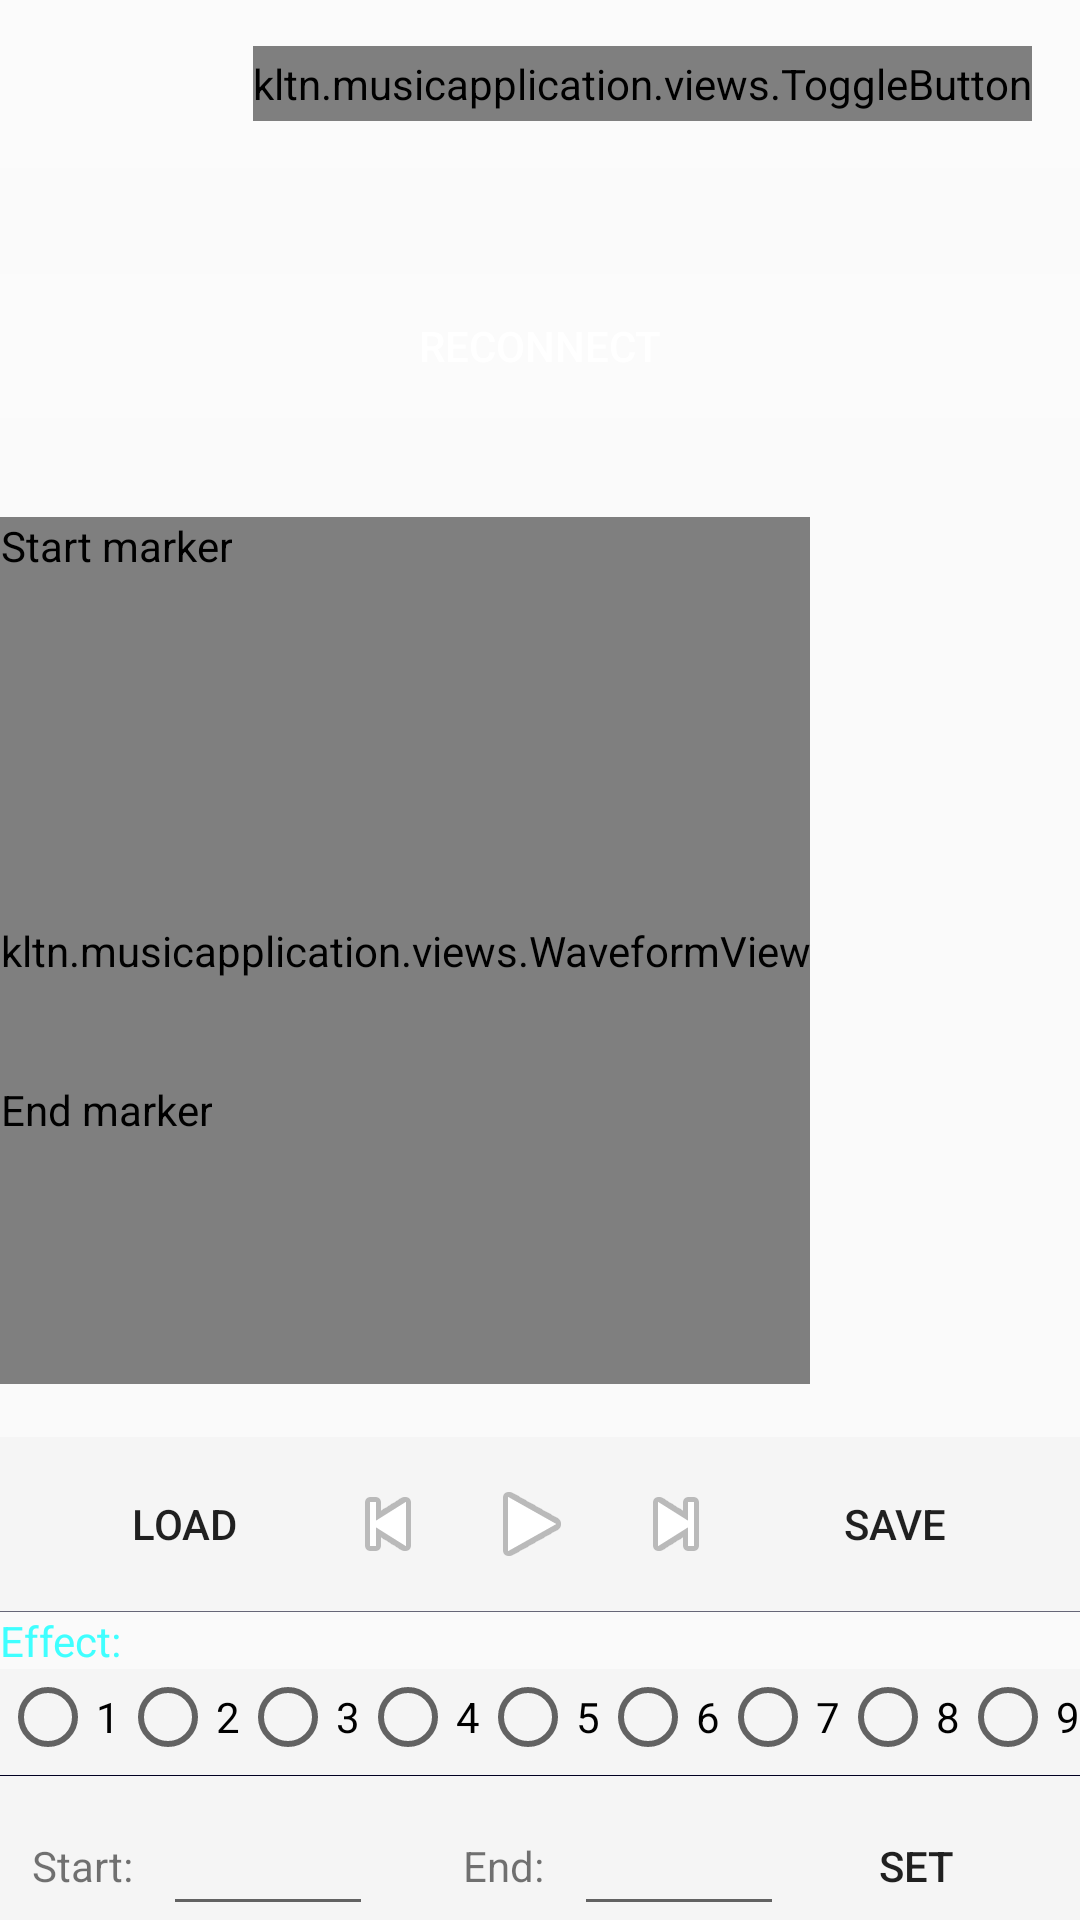

Icons on this 1080w x 1920h Android screen, each with the point to tap as (x=x, y=y):
Fast forward: (x=676, y=1524)
Play: (x=532, y=1524)
Rewind: (x=388, y=1524)
